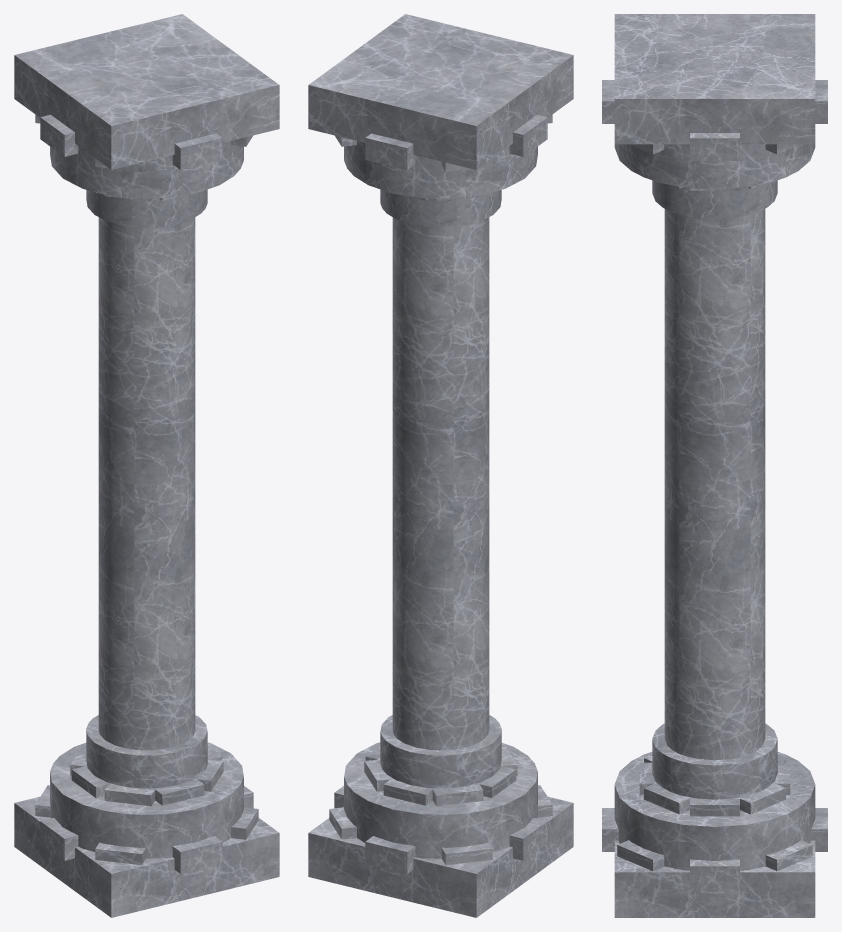
The model's file is pillar.obj.
3 views of the same model, side by side, from view 1: azimuth 30°, elevation 25°; view 2: azimuth 150°, elevation 25°; view 3: azimuth 270°, elevation 25° (orthographic). The views are drawn at different scales.
Visible parts, largest first — view 1: Union1; view 2: Union1; view 3: Union1.
Boxes of the visible parts, left/top/right/bottom form: Union1: left=14, top=14, right=279, bottom=917; Union1: left=308, top=14, right=573, bottom=917; Union1: left=602, top=14, right=827, bottom=917.
Bounding box in the file's own units: 4.5 × 18 × 4.5.
Materials: 1 (1 with a texture image).
